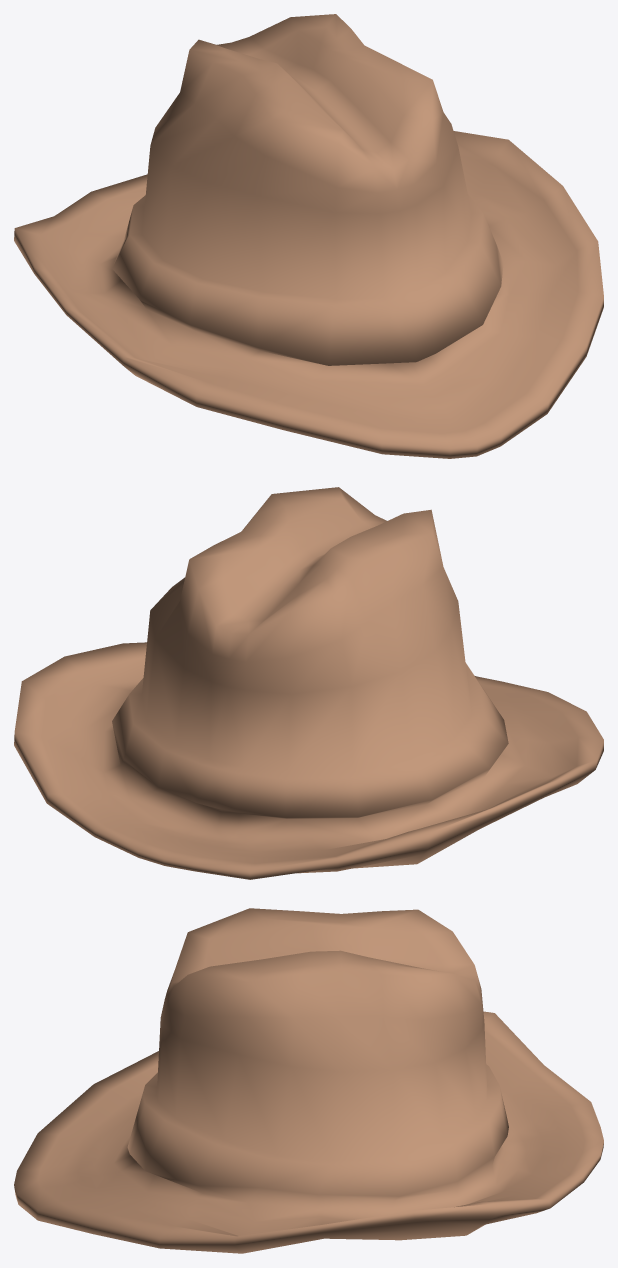
File: texanHat.fbx
3 views of the same model, one above another, from view 1: azimuth 30°, elevation 25°; view 2: azimuth 150°, elevation 25°; view 3: azimuth 270°, elevation 25° (orthographic). The views are drawn at different scales.
Parts seen in each view (by area): view 1: texanHat; view 2: texanHat; view 3: texanHat.
Part boxes in pixels (left/top/right/bottom): texanHat: left=14, top=14, right=603, bottom=458; texanHat: left=14, top=487, right=603, bottom=879; texanHat: left=14, top=908, right=603, bottom=1253.
Size of the model in its own units: 66.72 by 35.19 by 72.89.
